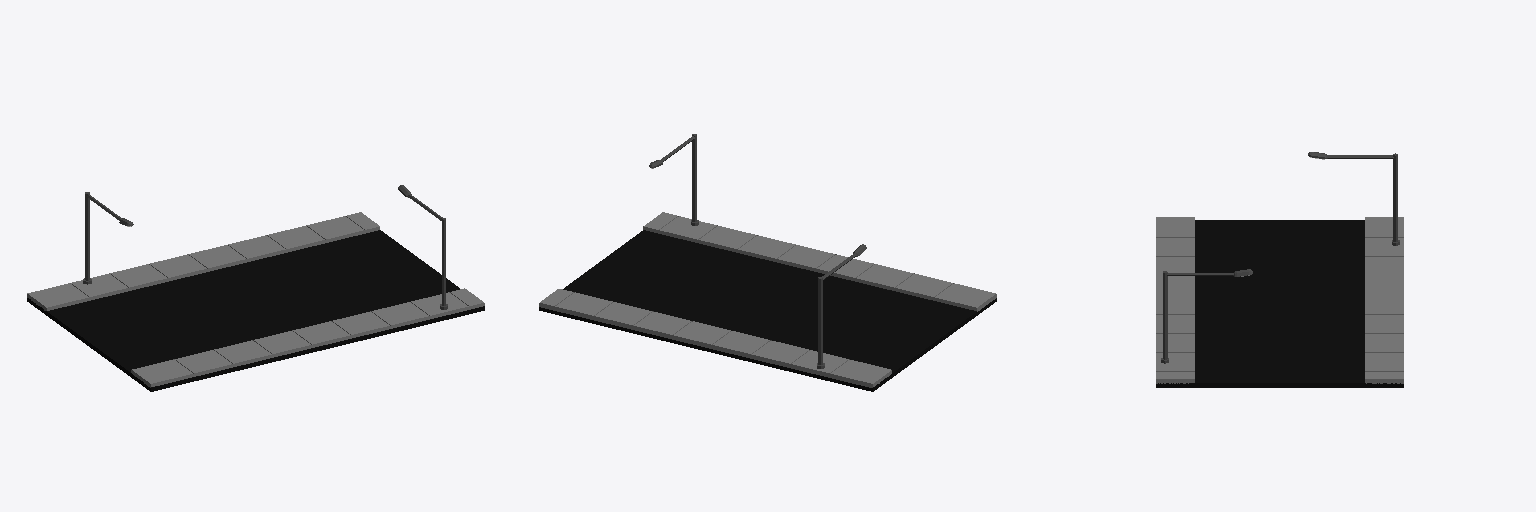
The picture shows the model from 3 angles: view 1: azimuth 30°, elevation 25°; view 2: azimuth 150°, elevation 25°; view 3: azimuth 270°, elevation 25°; orthographic projection.
Visible parts, largest first — view 1: Объект_Куб, Объект_Куб.1-Ноль_объект_1, Объект_Куб.1-Ноль_объект; view 2: Объект_Куб, Объект_Куб.1-Ноль_объект_1, Объект_Куб.1-Ноль_объект; view 3: Объект_Куб, Объект_Куб.1-Ноль_объект_1, Объект_Куб.1-Ноль_объект.
Part boxes in pixels (x1,y1,x2,y2): Объект_Куб: (27,230,484,391); Объект_Куб.1-Ноль_объект_1: (27,212,379,310); Объект_Куб.1-Ноль_объект: (131,288,484,387); Объект_Куб: (539,230,996,391); Объект_Куб.1-Ноль_объект_1: (539,289,891,387); Объект_Куб.1-Ноль_объект: (643,212,996,311); Объект_Куб: (1156,220,1403,387); Объект_Куб.1-Ноль_объект_1: (1365,217,1403,383); Объект_Куб.1-Ноль_объект: (1156,217,1194,383).
Size of the model in its own units: 659 by 189 by 423.